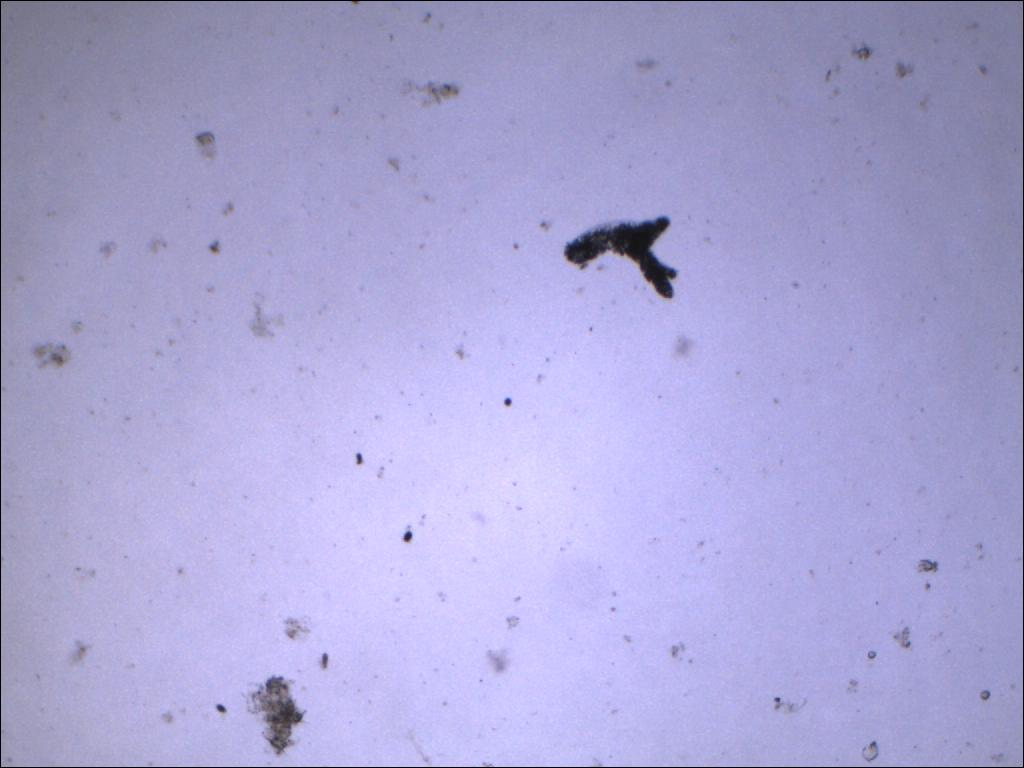amoeba: (557, 210, 691, 305)
